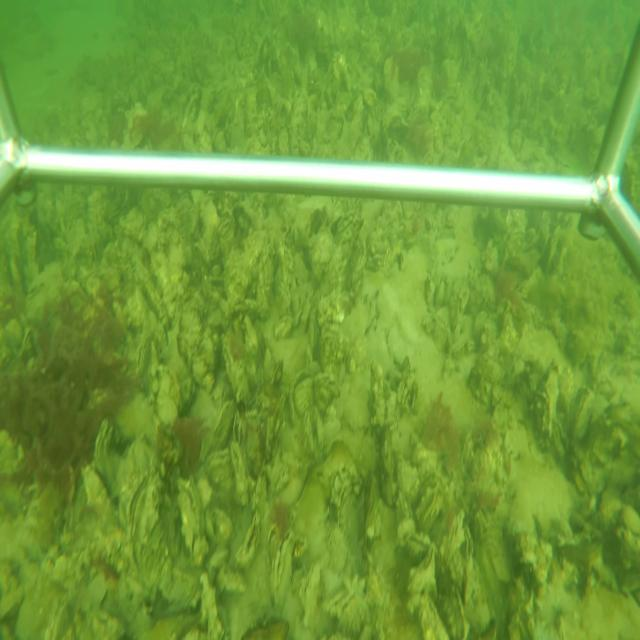Oyster-Closed: (125, 475, 176, 593), (268, 530, 296, 613), (178, 477, 203, 563), (231, 505, 262, 570), (407, 547, 437, 592), (212, 396, 236, 439)
Oyster-Open: (302, 406, 324, 456), (231, 412, 245, 445)
